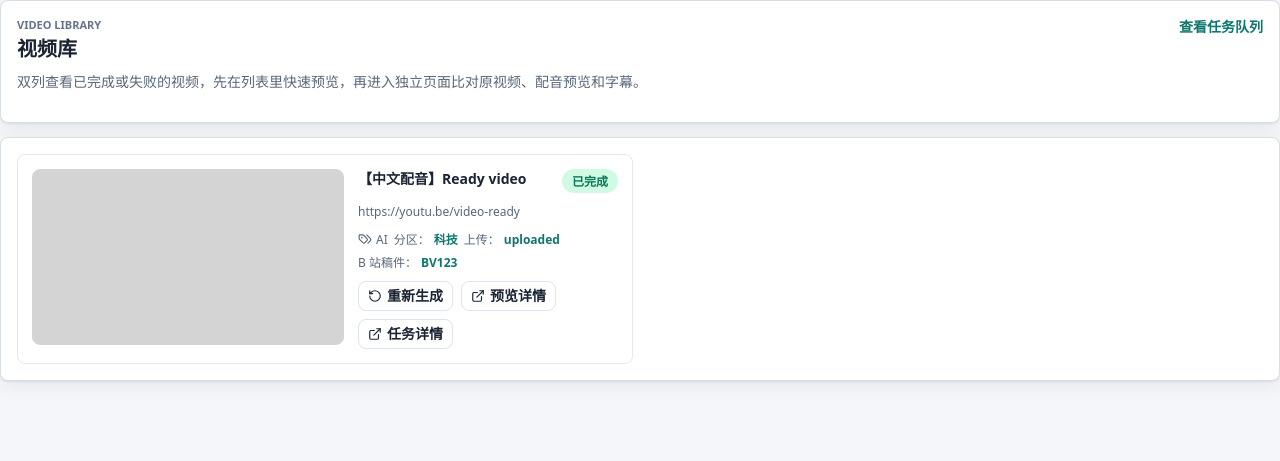
it: VideosPage › regenerates metadata through the task step retry endpoint
Click the button "重新生成" at (406, 296), box x1=358 y1=281 x2=453 y2=311
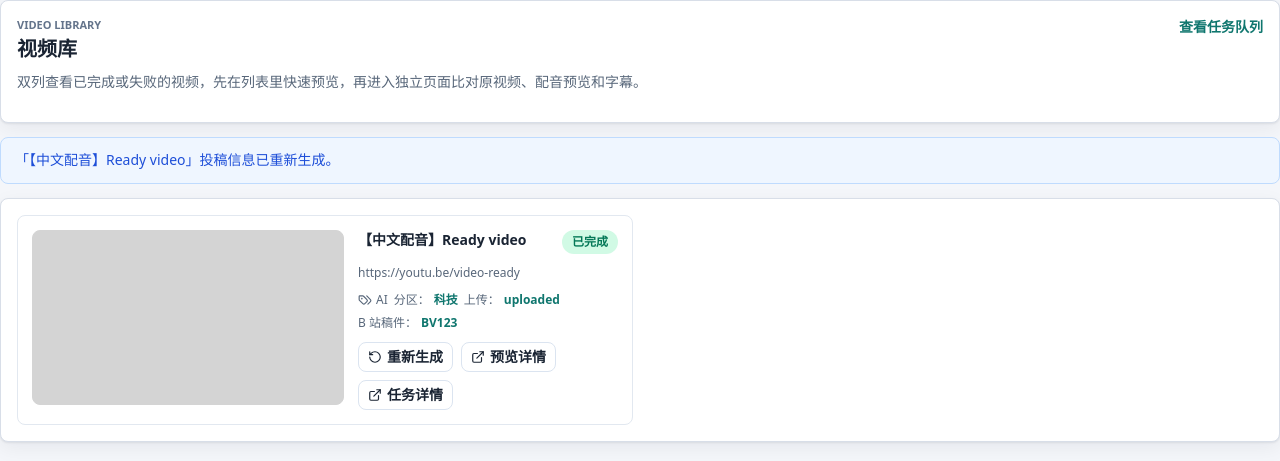
Result: the text "「【中文配音】Ready video」投稿信息已重新生成。" is shown at x1=0 y1=137 x2=1279 y2=184
